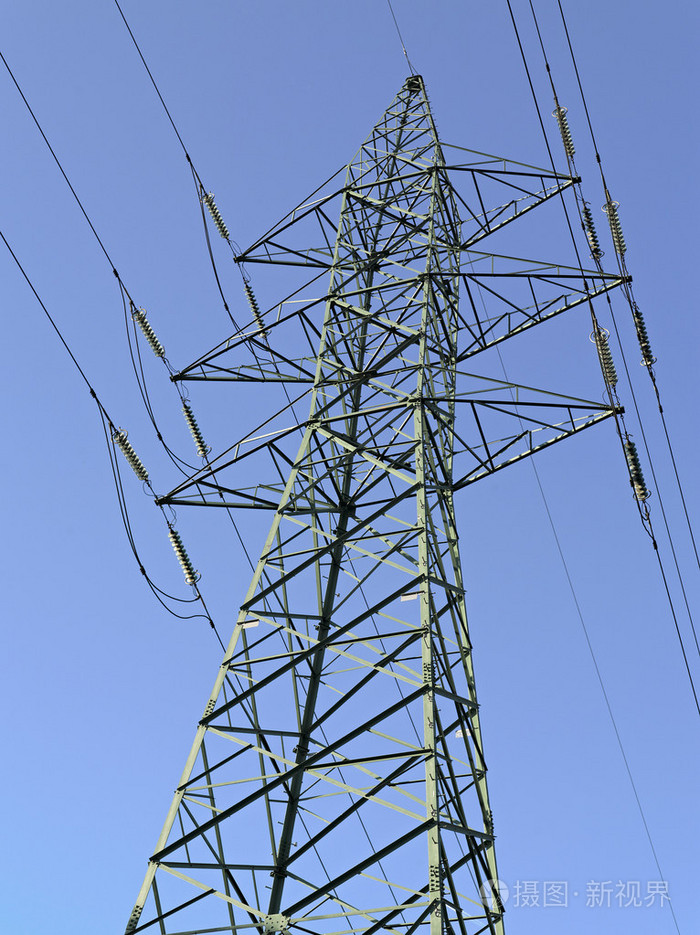insulator: (176, 401, 210, 456), (166, 528, 197, 584), (632, 307, 657, 370), (114, 434, 149, 478), (624, 443, 649, 502), (593, 330, 618, 387), (137, 310, 163, 357), (579, 205, 603, 252), (607, 205, 628, 257), (203, 198, 230, 238), (245, 286, 265, 335), (555, 111, 574, 157)
